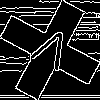V: (25, 25, 75, 81)
